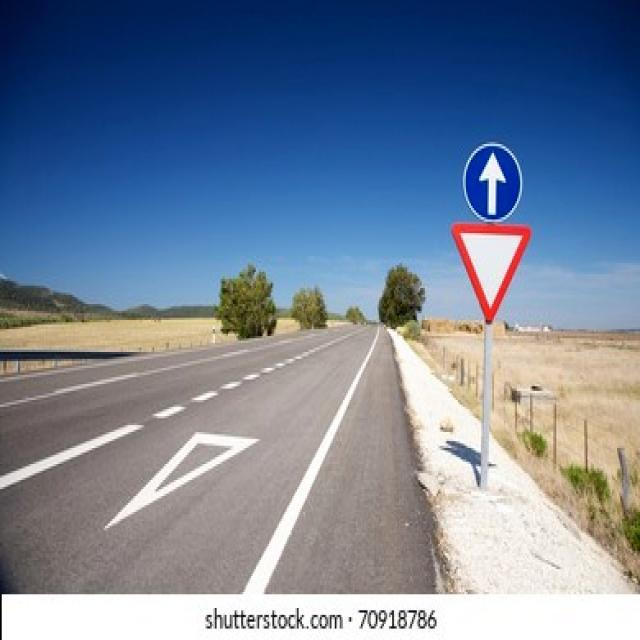Traffic sign: (450, 135, 535, 327)
